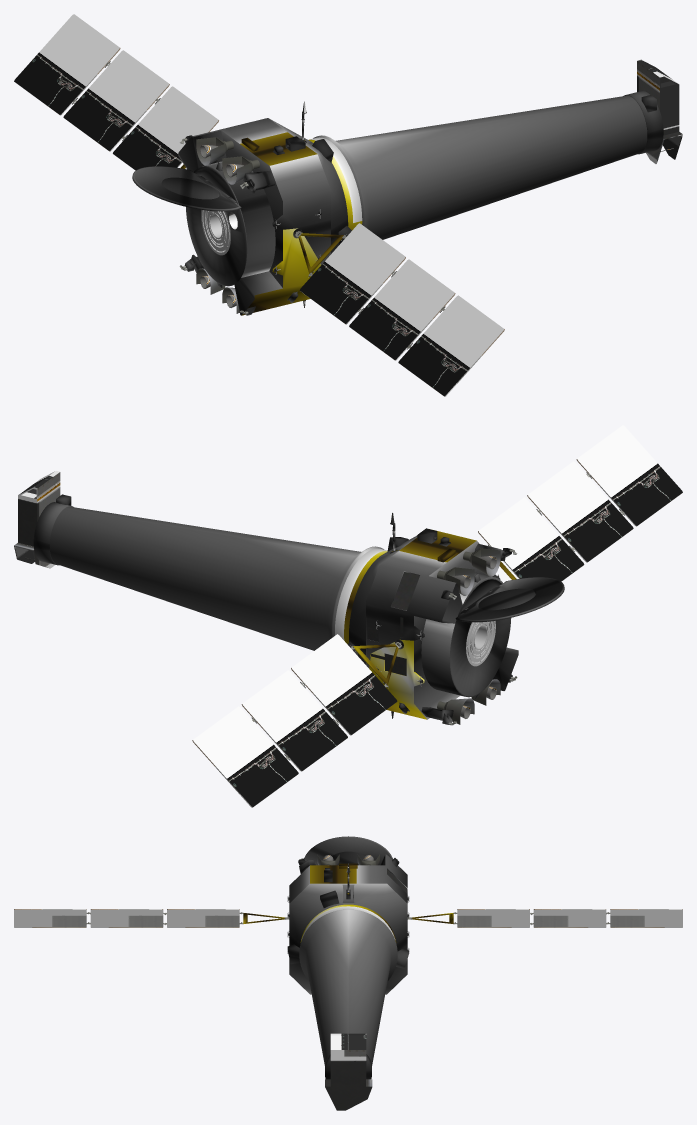
Rendered from chandra.obj.
3 views of the same model, one above another, from view 1: azimuth 30°, elevation 25°; view 2: azimuth 150°, elevation 25°; view 3: azimuth 270°, elevation 25° (orthographic). The views are drawn at different scales.
Parts seen in each view (by area): view 1: foil_silver_Cube.025, shiny_panel_Cylinder.003, tex_01_Cylinder.001, foil_gold_vertex_mesh.002, AO_HRMA_Cylinder.016; view 2: foil_silver_Cube.025, shiny_panel_Cylinder.003, tex_01_Cylinder.001, foil_gold_vertex_mesh.002, AO_HRMA_Cylinder.016; view 3: foil_silver_Cube.025, tex_01_Cylinder.001, foil_gold_vertex_mesh.002.
Part boxes in pixels (bbox=[...]): foil_silver_Cube.025: bbox=[132, 91, 663, 315]; shiny_panel_Cylinder.003: bbox=[14, 14, 503, 395]; tex_01_Cylinder.001: bbox=[15, 48, 682, 396]; foil_gold_vertex_mesh.002: bbox=[180, 132, 362, 315]; AO_HRMA_Cylinder.016: bbox=[201, 210, 230, 255]; foil_silver_Cube.025: bbox=[33, 494, 564, 724]; shiny_panel_Cylinder.003: bbox=[193, 425, 682, 806]; tex_01_Cylinder.001: bbox=[14, 459, 680, 807]; foil_gold_vertex_mesh.002: bbox=[344, 530, 516, 719]; AO_HRMA_Cylinder.016: bbox=[466, 621, 495, 666]; foil_silver_Cube.025: bbox=[287, 836, 409, 1079]; tex_01_Cylinder.001: bbox=[14, 854, 682, 1110]; foil_gold_vertex_mesh.002: bbox=[243, 863, 453, 942].
Size of the model in its own units: 13.78 by 5.14 by 19.51.
